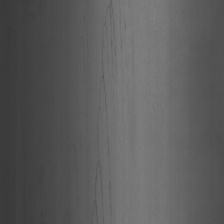inclusion: (81, 6, 138, 218)
